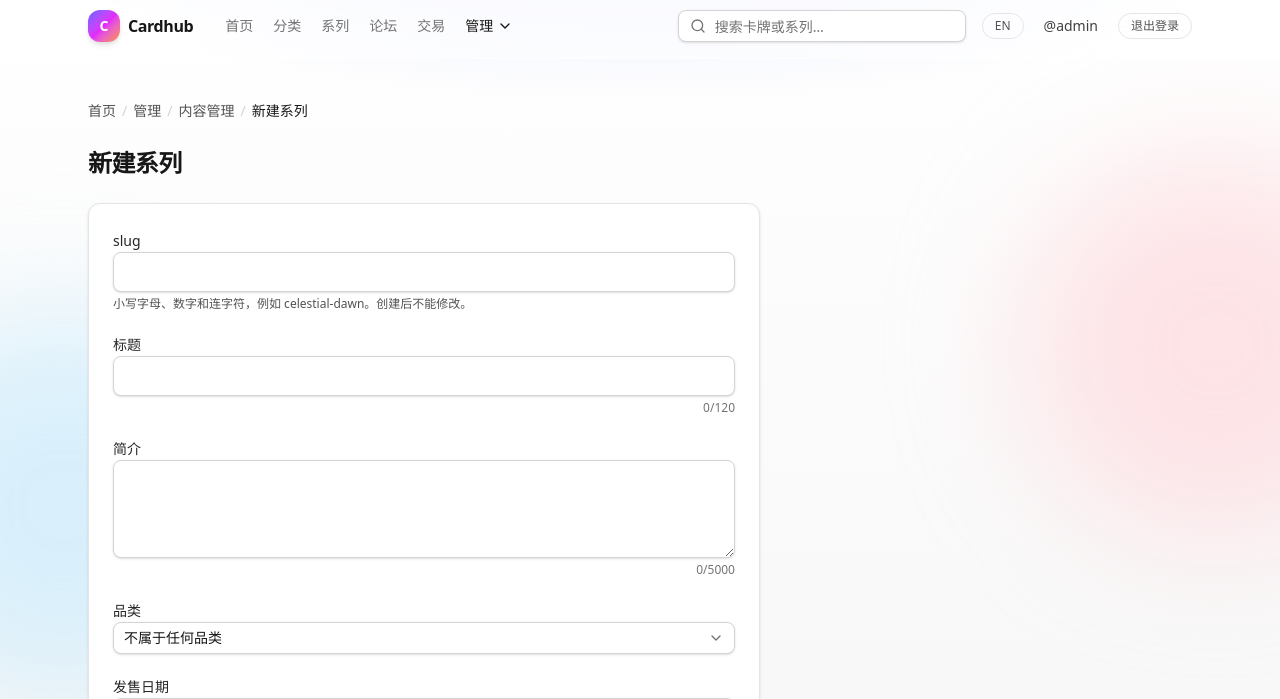
Scenario: series form › falls back to too_big when a server length error has no field code
Type "new-series" into the field labelled "slug" at {"x": 424, "y": 272}, box x1=113 y1=252 x2=735 y2=292
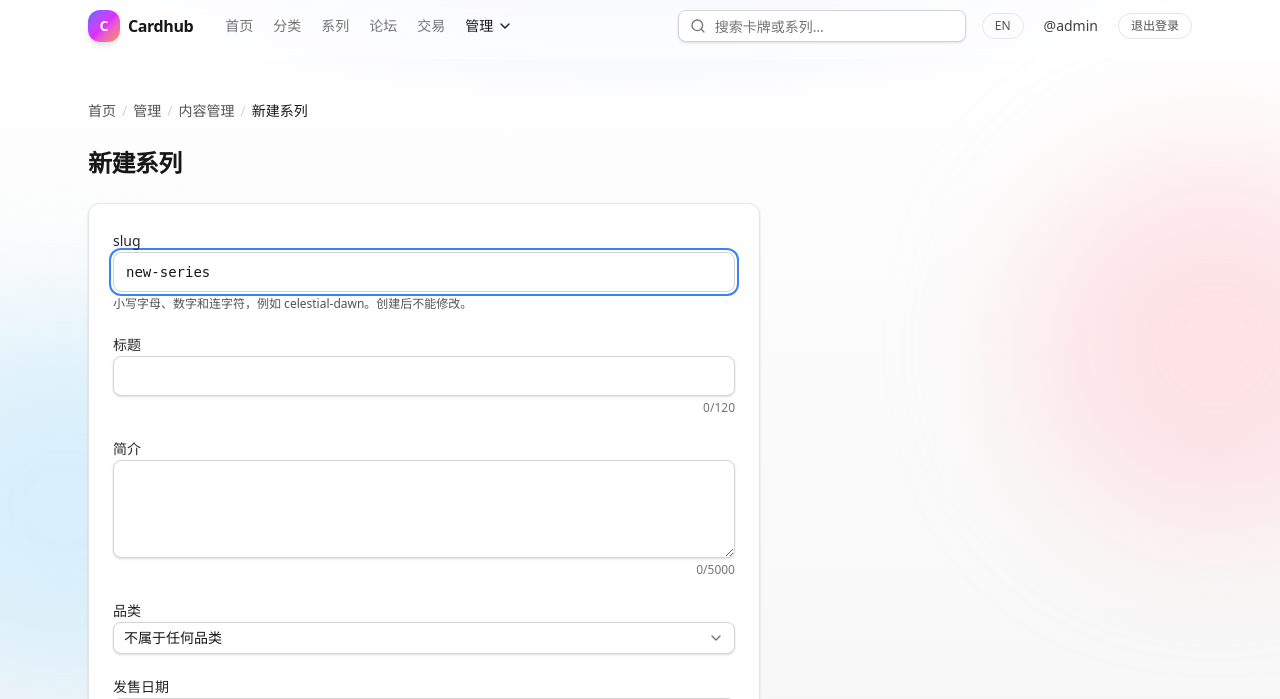
Type "新系列" into the field labelled "标题" at {"x": 424, "y": 376}, box x1=113 y1=356 x2=735 y2=396
(page scrolled)
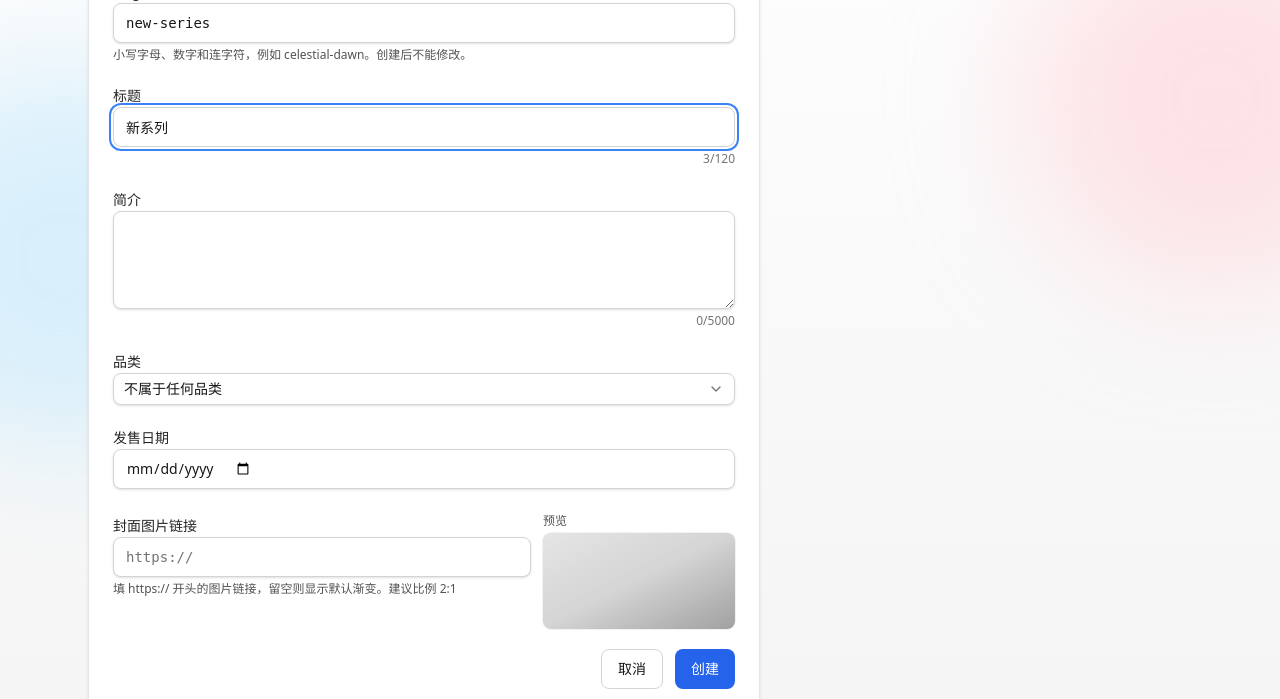
Click the button "创建" at {"x": 705, "y": 669}, box x1=675 y1=649 x2=735 y2=689
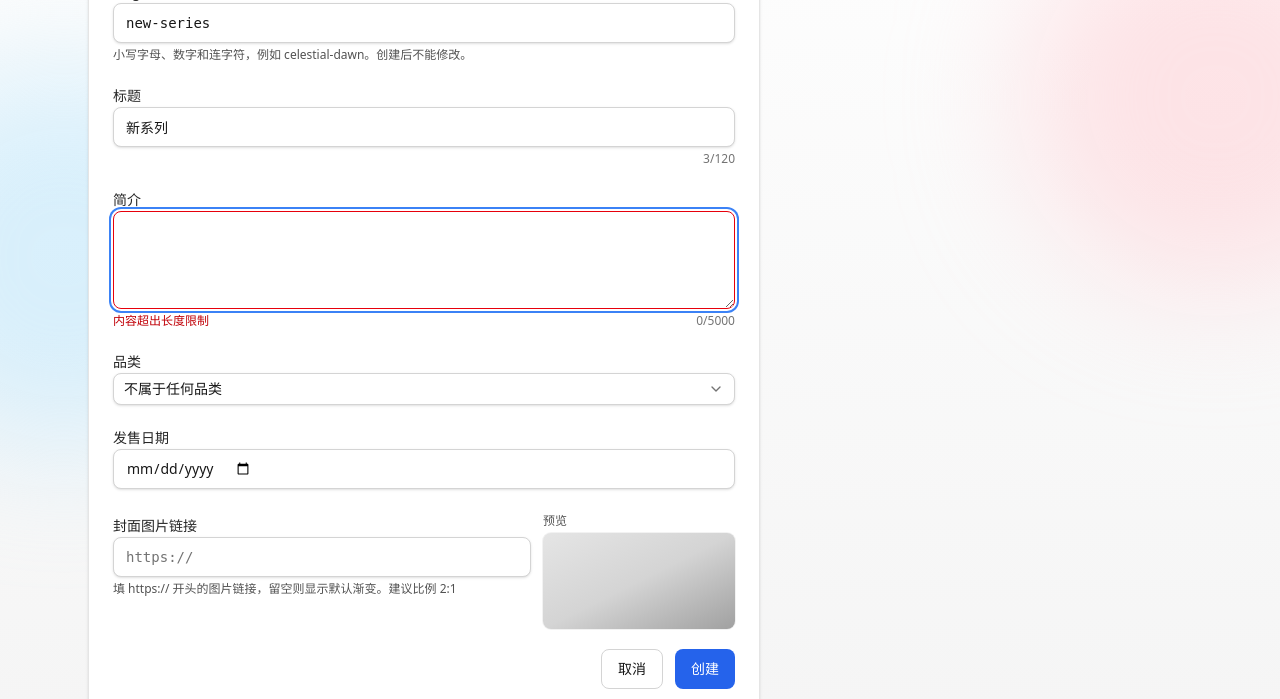
Expected: the text "内容超出长度限制" is shown, x1=113 y1=313 x2=209 y2=329
